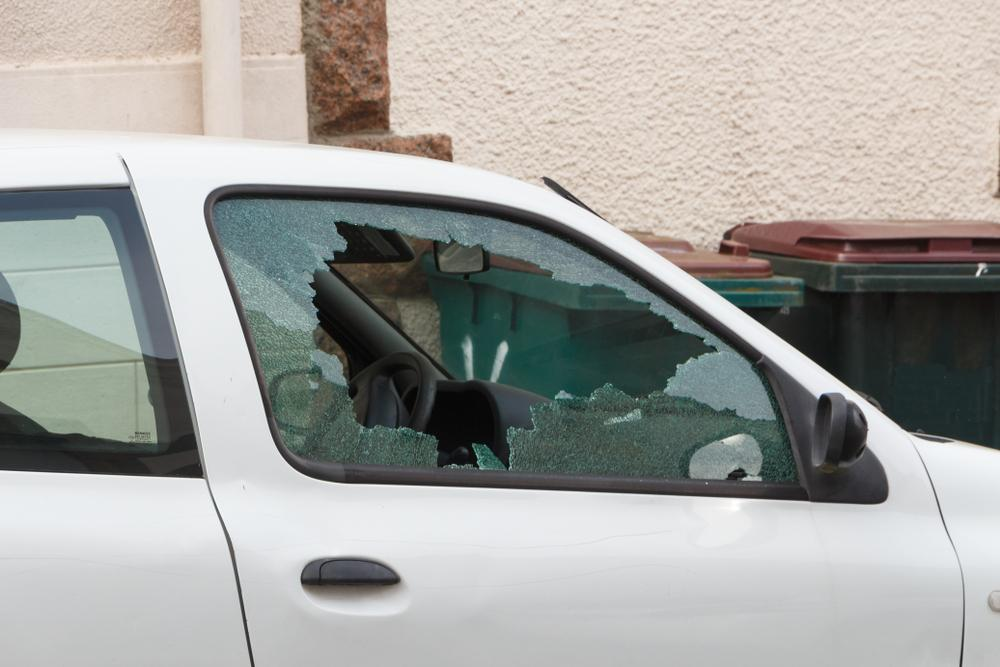glass shatter: (212, 193, 801, 484)
